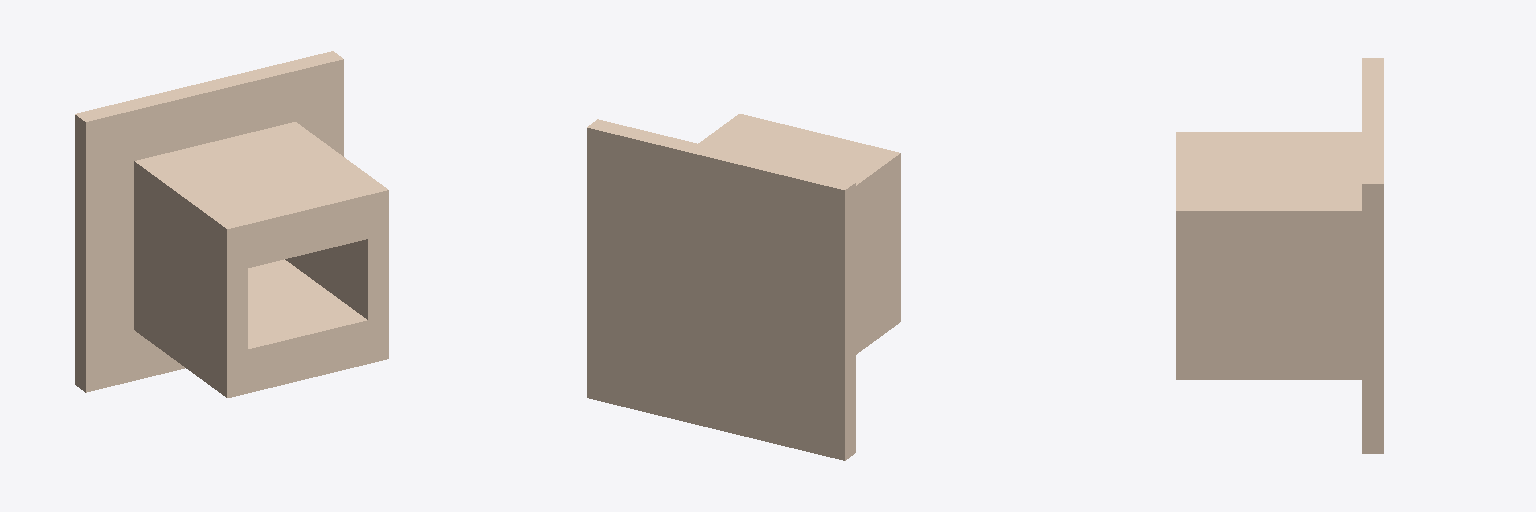
Rendered from industreal_tray_pick_rectangular_peg_16mm.obj.
The picture shows the model from 3 angles: view 1: azimuth 30°, elevation 25°; view 2: azimuth 150°, elevation 25°; view 3: azimuth 270°, elevation 25°; orthographic projection.
Visible parts, largest first — view 1: industreal_tray_pick_rectangular_peg_16mm; view 2: industreal_tray_pick_rectangular_peg_16mm; view 3: industreal_tray_pick_rectangular_peg_16mm.
Boxes of the visible parts, x1=… form: industreal_tray_pick_rectangular_peg_16mm: x1=75, y1=51, x2=388, y2=397; industreal_tray_pick_rectangular_peg_16mm: x1=587, y1=114, x2=900, y2=460; industreal_tray_pick_rectangular_peg_16mm: x1=1176, y1=58, x2=1383, y2=453.
Bounding box in the file's own units: 0.04 × 0.04 × 0.028.